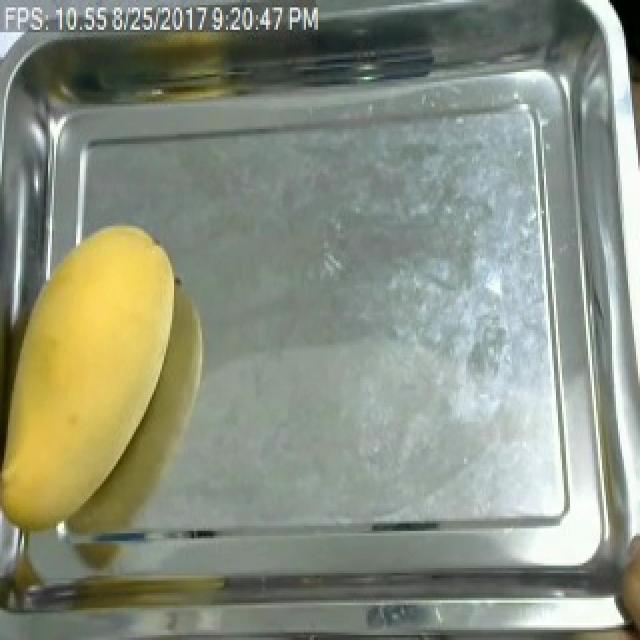fruit: (2, 211, 186, 541)
